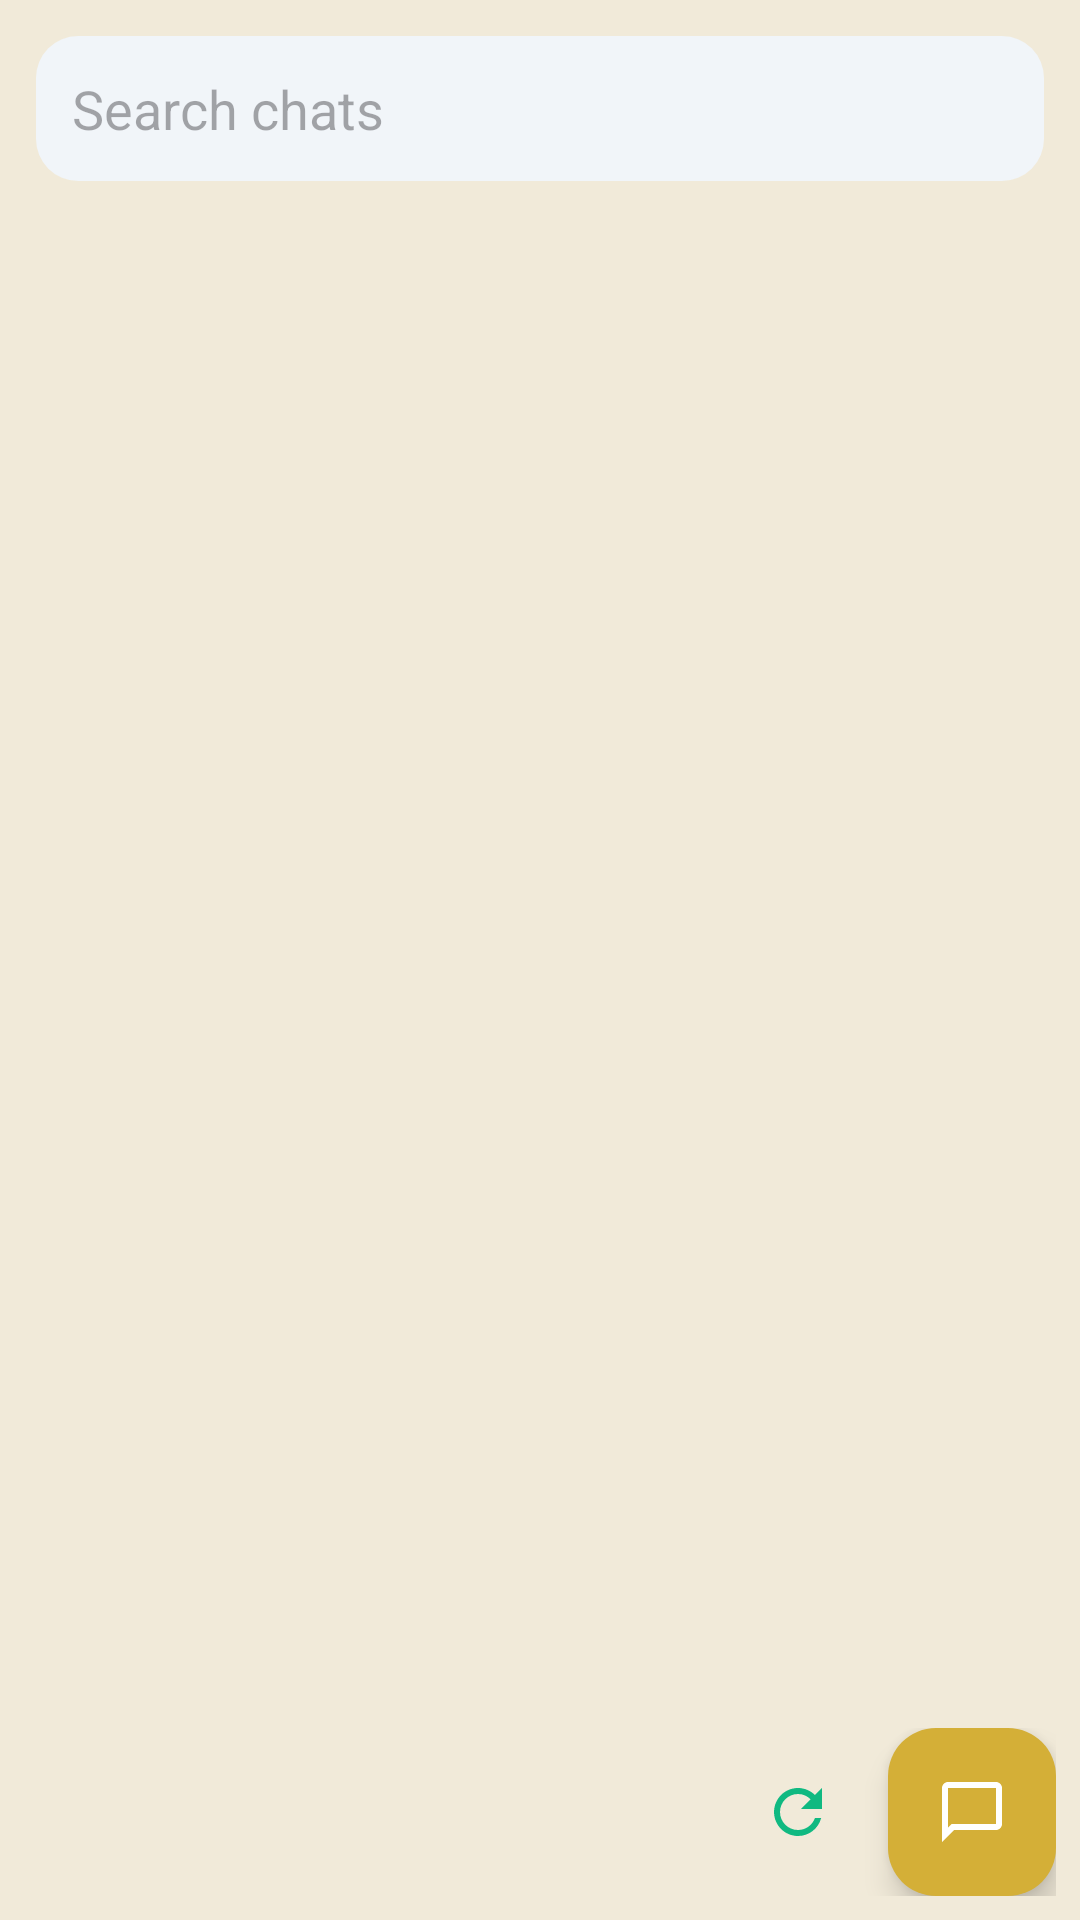

Icon click points for this 1080w x 1920h phone screenshot, format (x,y):
New chat: (972,1812)
Refresh: (798,1812)
